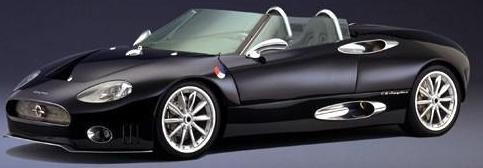front_view: (12, 73, 150, 152)
headlight: (70, 73, 141, 112)
side_glass: (250, 12, 362, 61)
